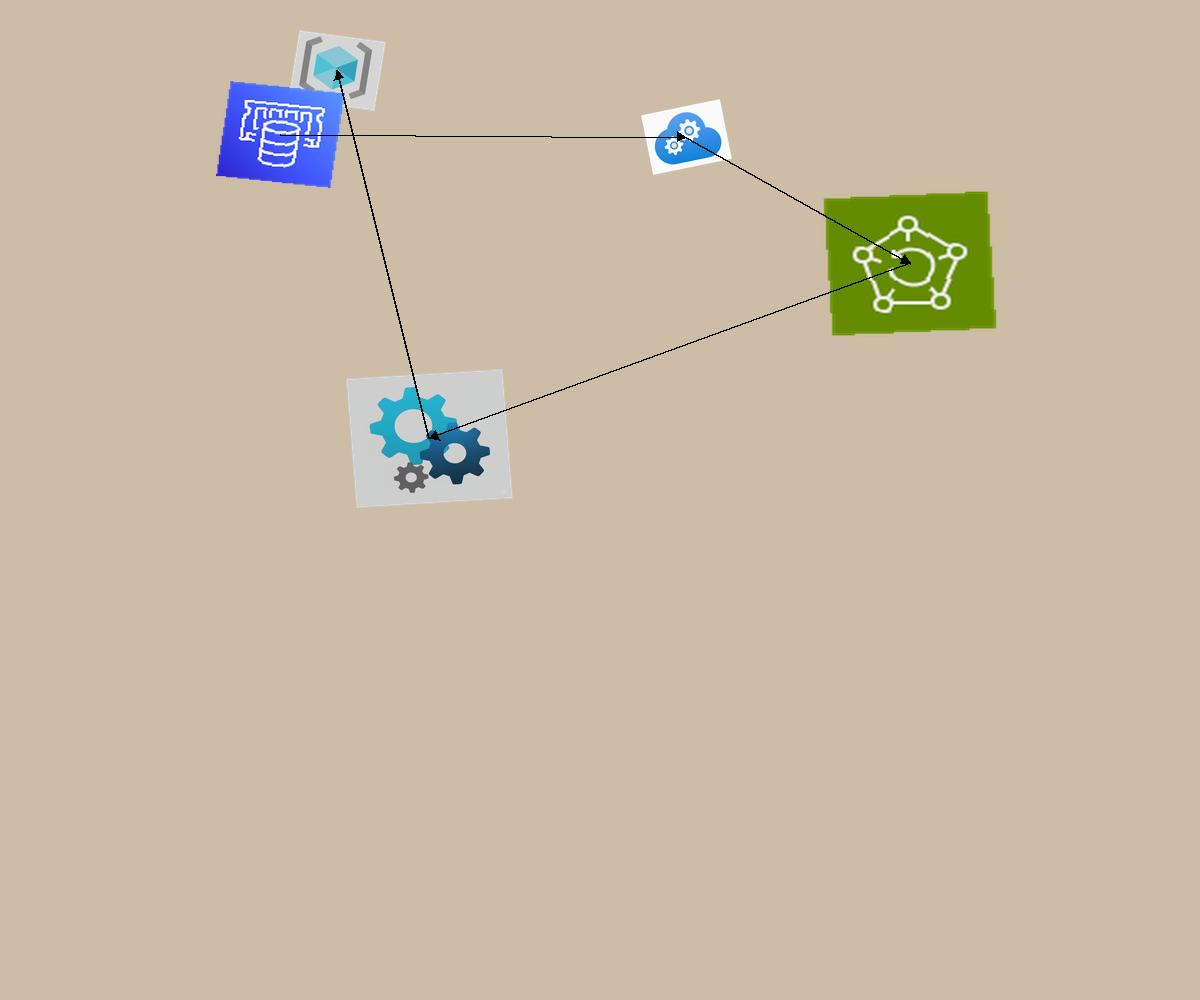AWS-Backup: (822, 190, 998, 337)
AWS-ElastiCache: (216, 81, 345, 188)
Azure_api: (346, 369, 513, 508)
Azure_cloud_services: (641, 99, 732, 175)
Azure_resource_group: (288, 30, 386, 111)
